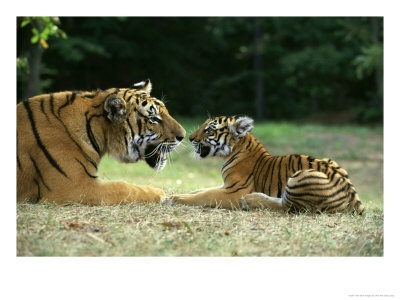Tigre: (189, 97, 369, 233), (28, 79, 185, 212)
